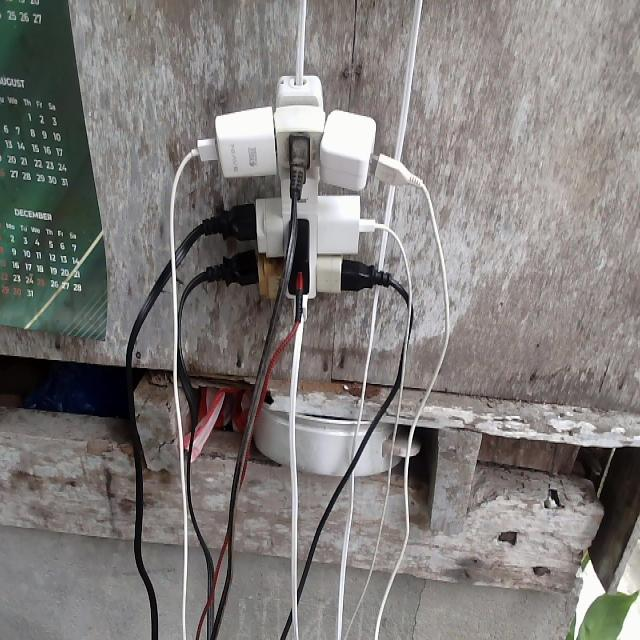-: (193, 65, 391, 296)
